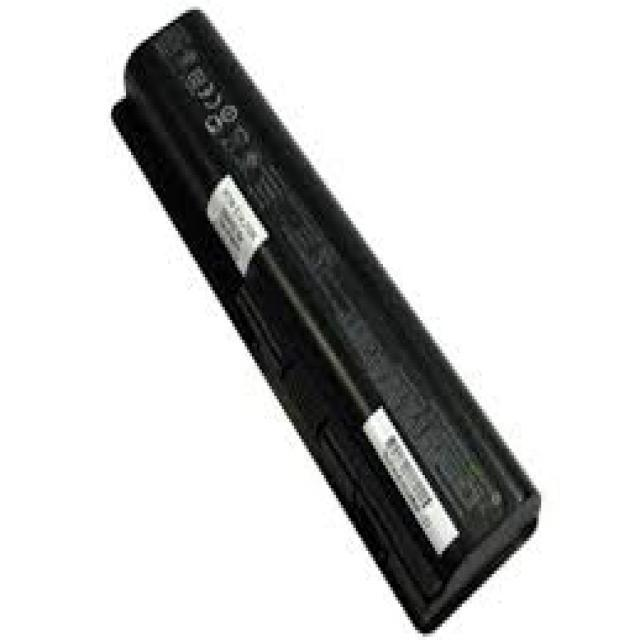battery: (109, 11, 542, 632)
